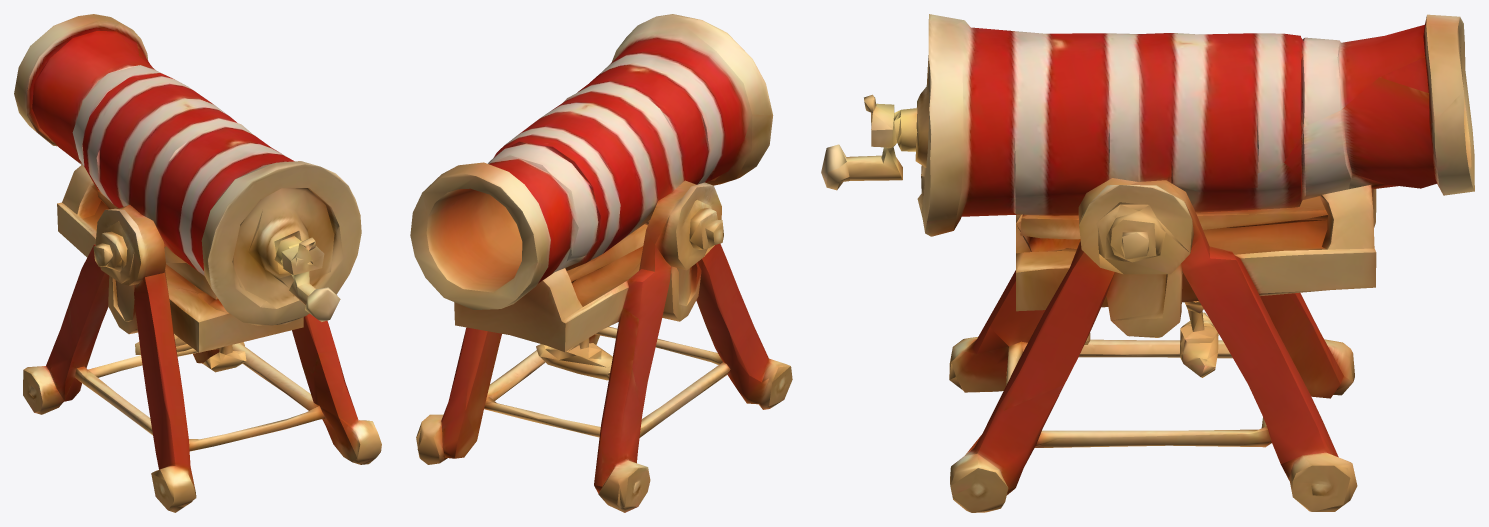
The model's file is m2RollCannon.glb.
The picture shows the model from 3 angles, left to right: view 1: azimuth 30°, elevation 25°; view 2: azimuth 150°, elevation 25°; view 3: azimuth 270°, elevation 25°; orthographic projection. The views are drawn at different scales.
Visible parts, largest first — view 1: model; view 2: model; view 3: model.
Part boxes in pixels (box(x1,y1,x2,y2)): model: box(14, 14, 381, 512); model: box(410, 14, 792, 512); model: box(821, 14, 1474, 512).
Bounding box in the file's own units: 0.9168 × 1.38 × 1.9.
Materials: 1 (1 with a texture image).
